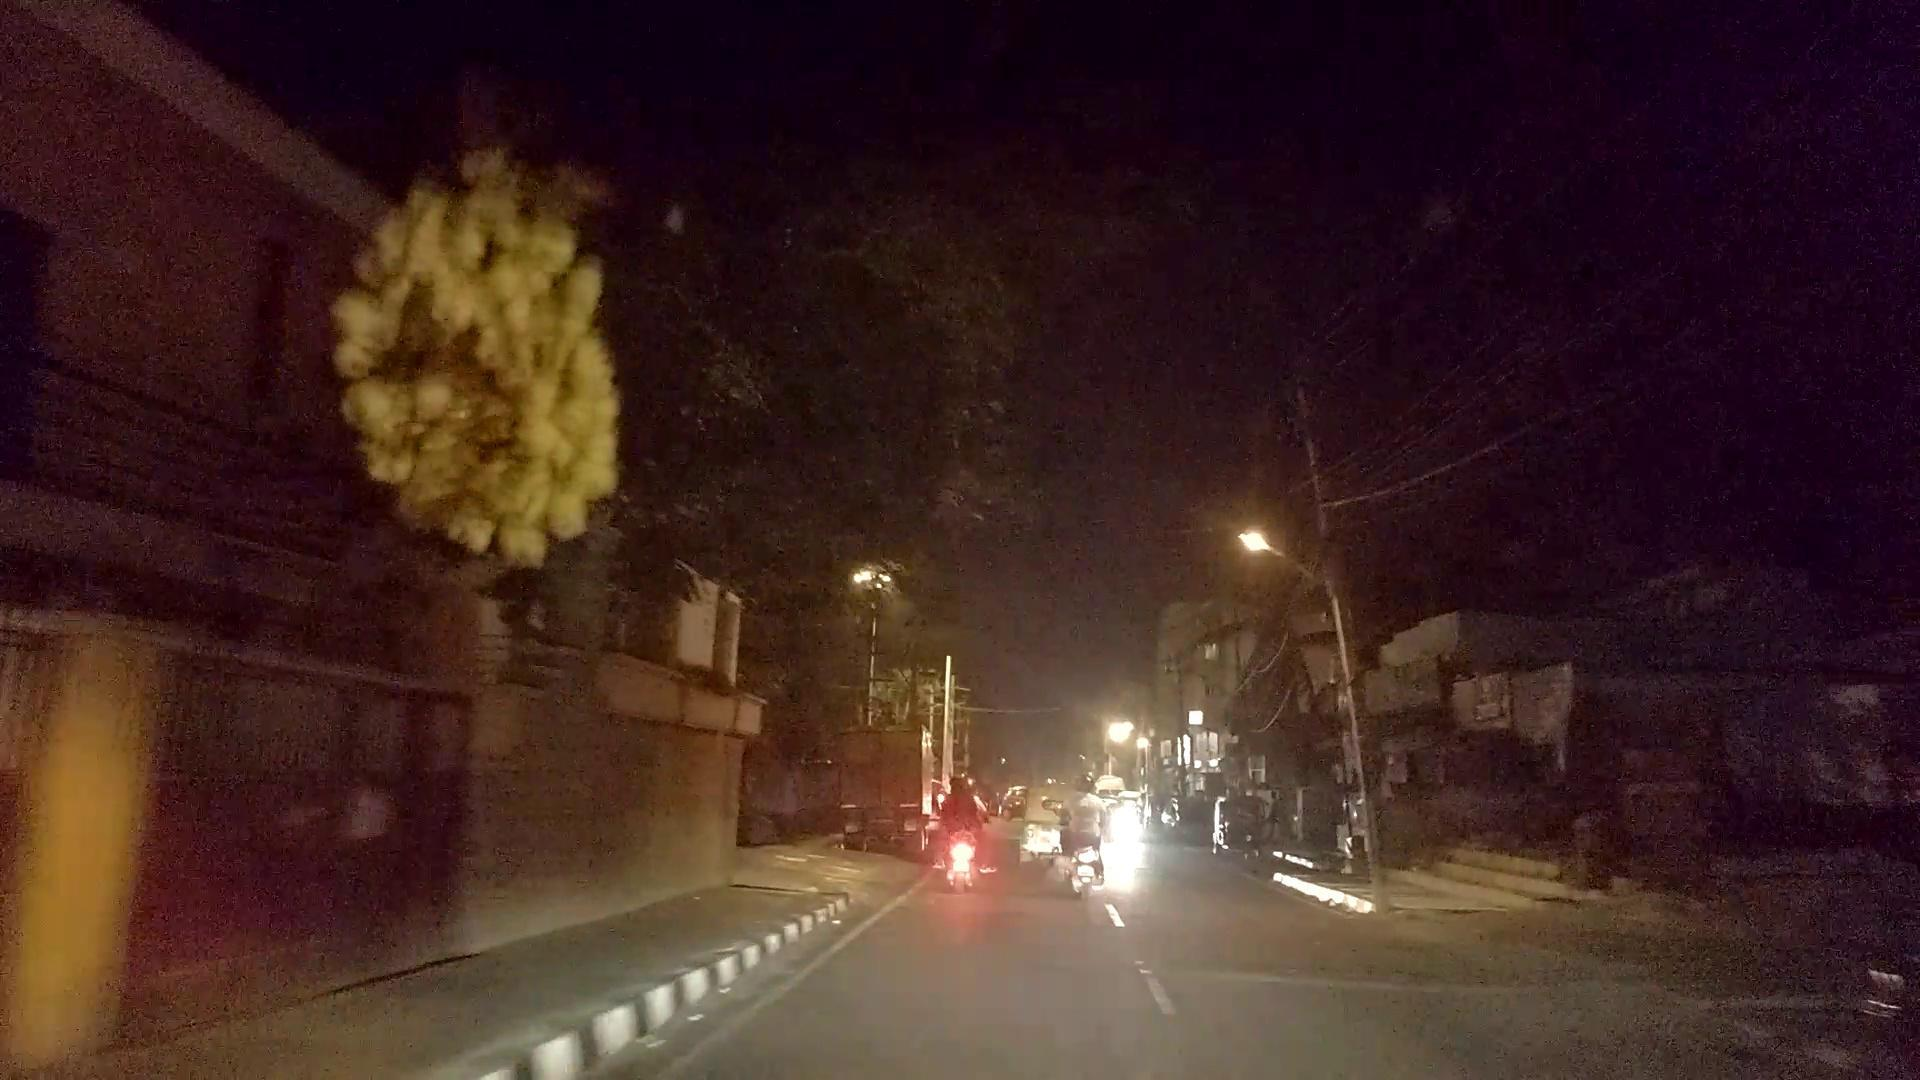on: (829, 522, 1350, 851)
